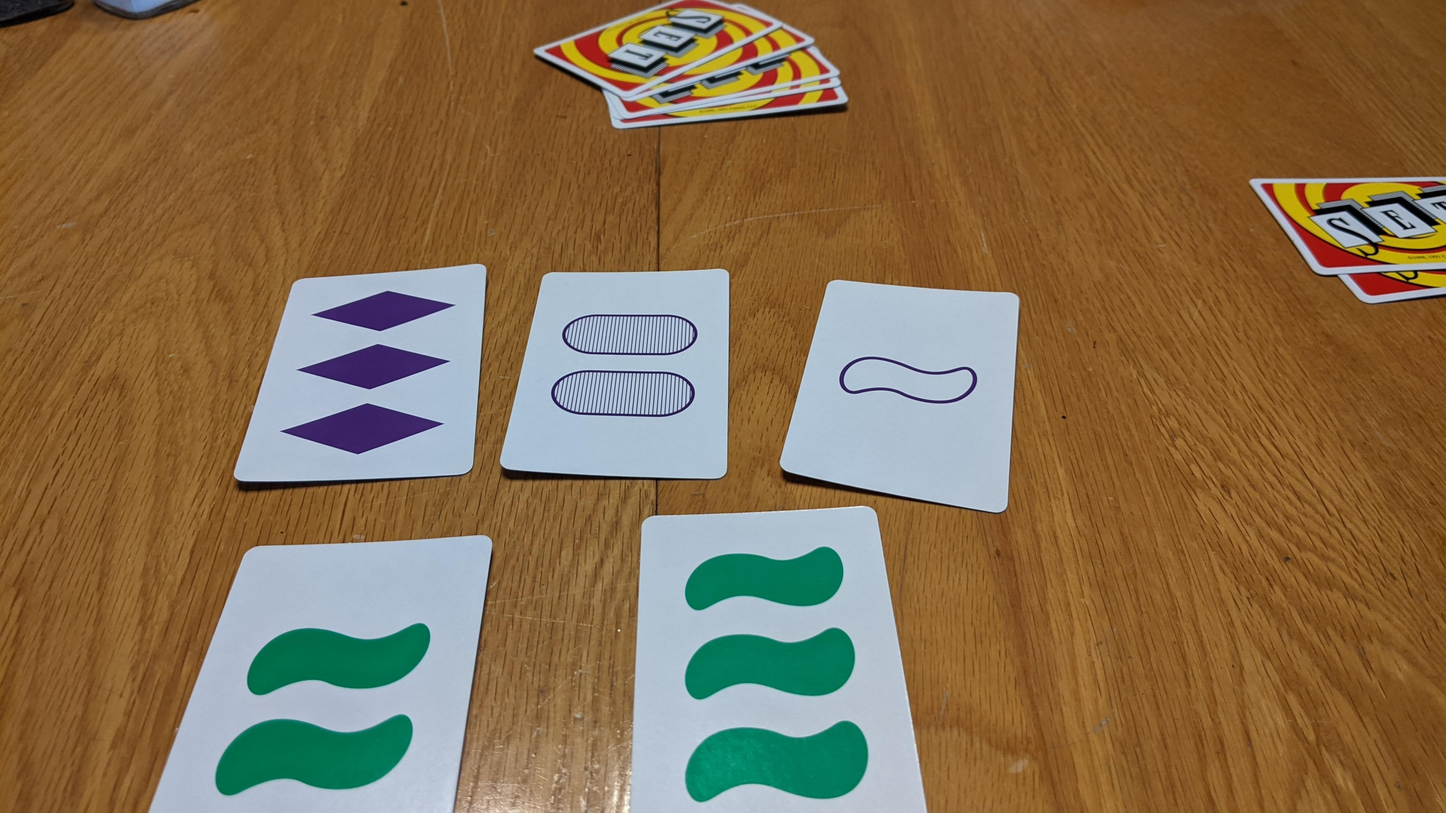card: (147, 536, 491, 811), (631, 506, 929, 813), (780, 280, 1021, 512), (236, 262, 486, 481), (500, 268, 731, 479)
